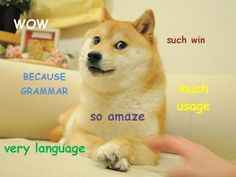doge: (75, 6, 158, 95)
